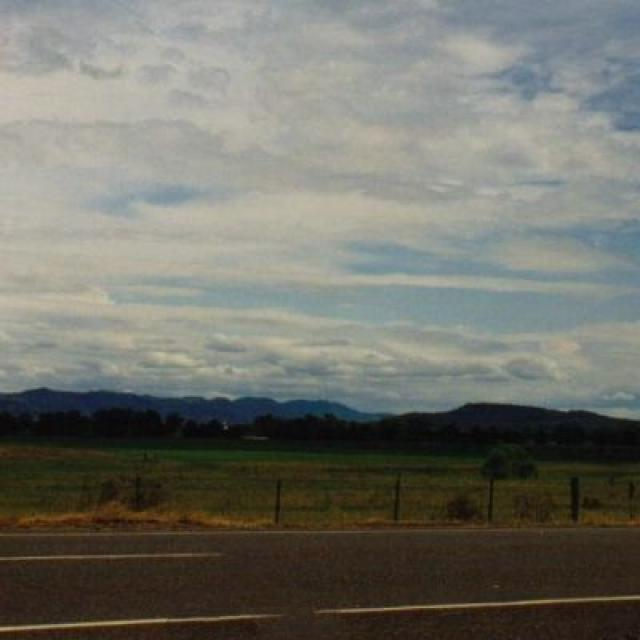Sc: (1, 50, 640, 385)
